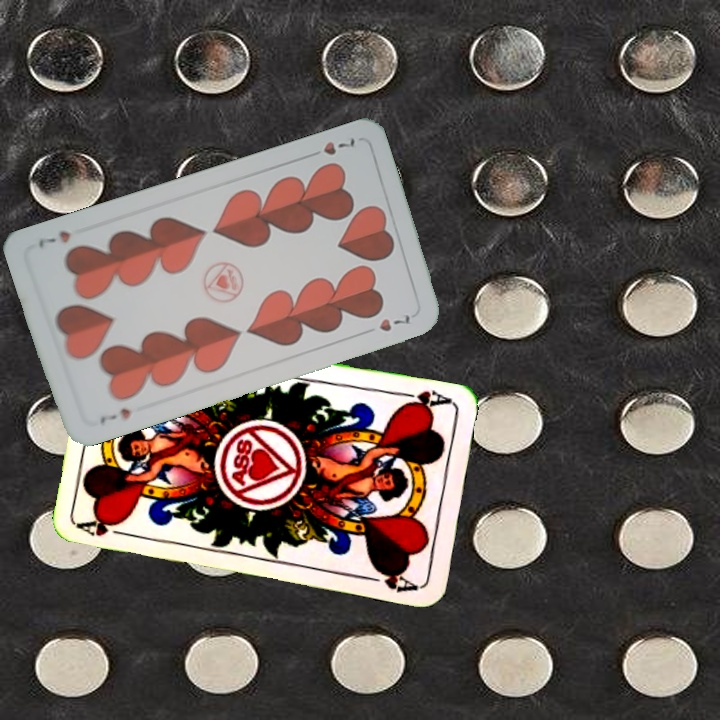H7: (303, 133, 358, 160), (96, 403, 133, 426)
HA: (394, 386, 453, 414), (76, 516, 135, 540)
